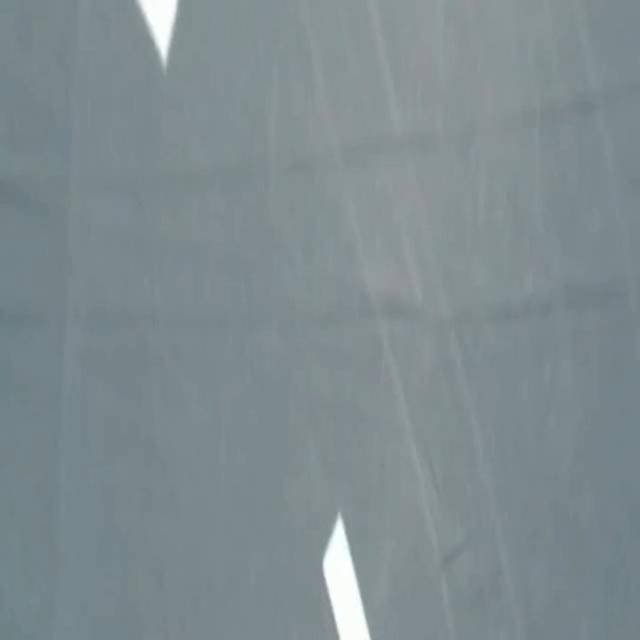center: (323, 513, 371, 639), (136, 0, 178, 68)
